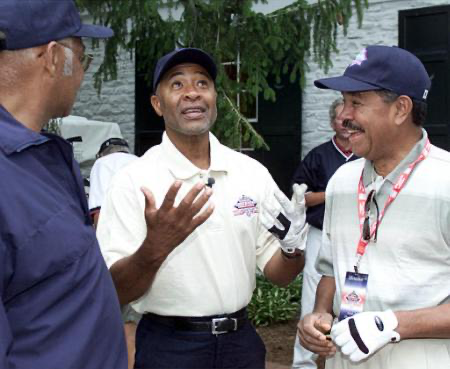Face: (157, 56, 221, 142), (336, 85, 391, 164), (328, 99, 356, 141)
